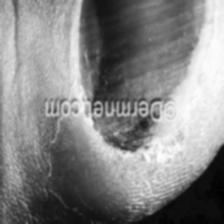Toxin: (70, 0, 219, 135)
